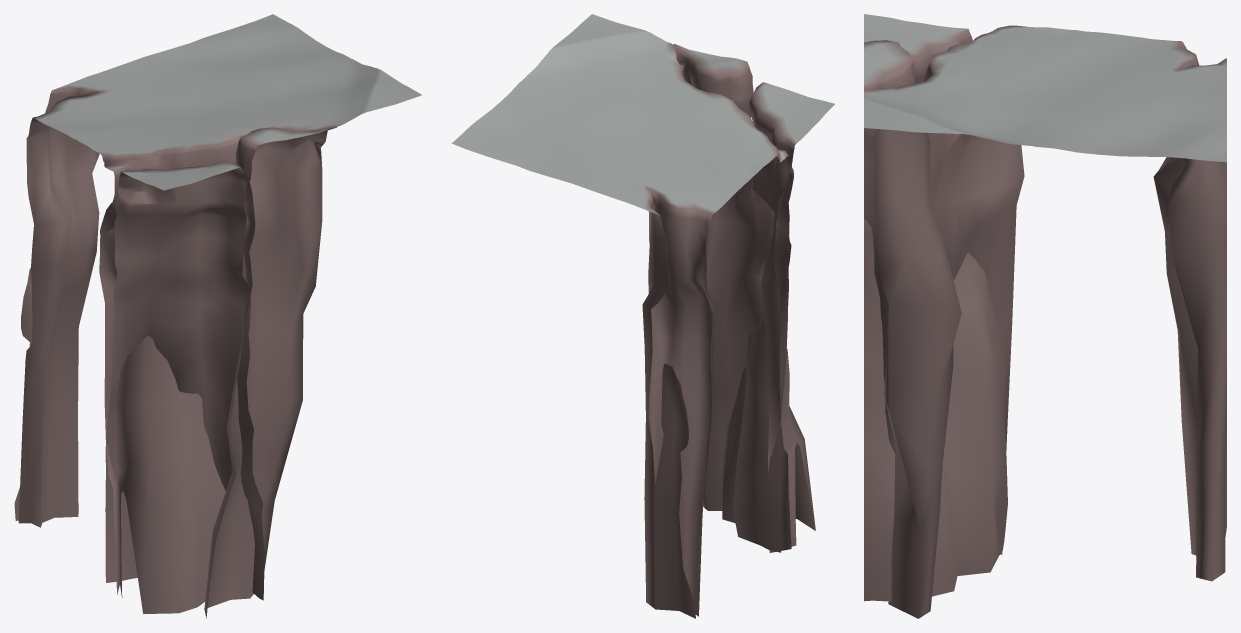
3 views of the same model, side by side, from view 1: azimuth 30°, elevation 25°; view 2: azimuth 150°, elevation 25°; view 3: azimuth 270°, elevation 25° (orthographic). The views are drawn at different scales.
Parts seen in each view (by area): view 1: G:\FFXIV-MapTools\exports\u5f1\bg\ex4\04_uvs_u5\fld\u5f1\bgp (×10); view 2: G:\FFXIV-MapTools\exports\u5f1\bg\ex4\04_uvs_u5\fld\u5f1\bgp (×9); view 3: G:\FFXIV-MapTools\exports\u5f1\bg\ex4\04_uvs_u5\fld\u5f1\bgp (×10).
Part boxes in pixels (x1=…): G:\FFXIV-MapTools\exports\u5f1\bg\ex4\04_uvs_u5\fld\u5f1\bgp (×10): x1=14, y1=14, x2=421, y2=618; G:\FFXIV-MapTools\exports\u5f1\bg\ex4\04_uvs_u5\fld\u5f1\bgp (×9): x1=451, y1=14, x2=834, y2=618; G:\FFXIV-MapTools\exports\u5f1\bg\ex4\04_uvs_u5\fld\u5f1\bgp (×10): x1=864, y1=14, x2=1226, y2=618.
Size of the model in its own units: 128 by 223 by 128.
